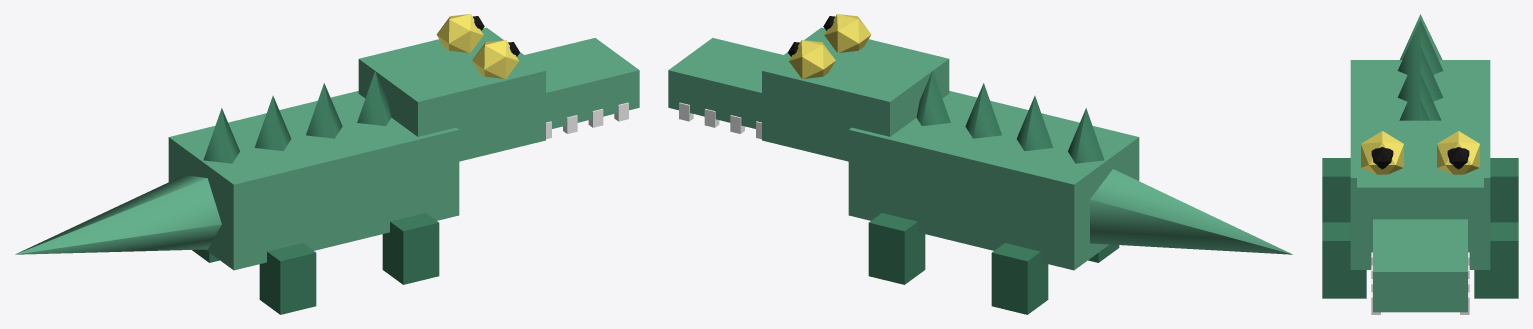
File: level2.glb
3 renders of one model, left to right at view 1: azimuth 30°, elevation 25°; view 2: azimuth 150°, elevation 25°; view 3: azimuth 270°, elevation 25°, orthographic. The views are drawn at different scales.
Size of the model in its own units: 1.3 by 0.3949 by 0.341.
